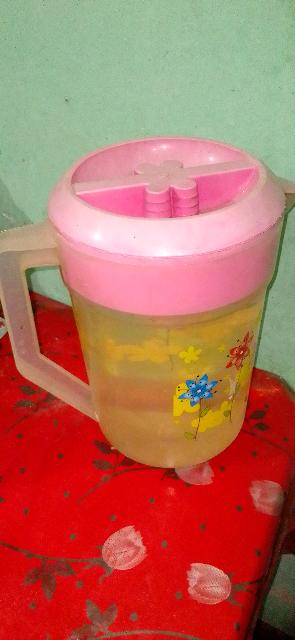hardplastic: (39, 129, 292, 486)
